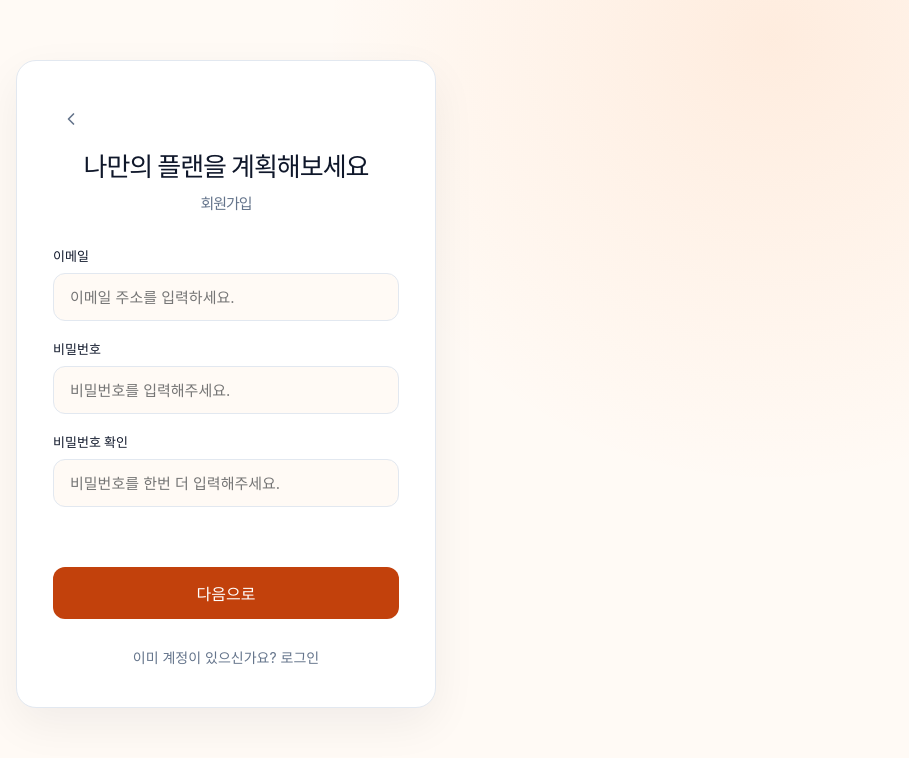
Scenario: JoinView › email 확인 성공 후 화면 이동이 실패하면 navigation 오류를 구분해 표시한다
The width and height of the screenshot is (909, 758).
Type "  MEMBER@Example.COM " into the field with id "join-email" at (226, 297), box x1=53 y1=273 x2=399 y2=321
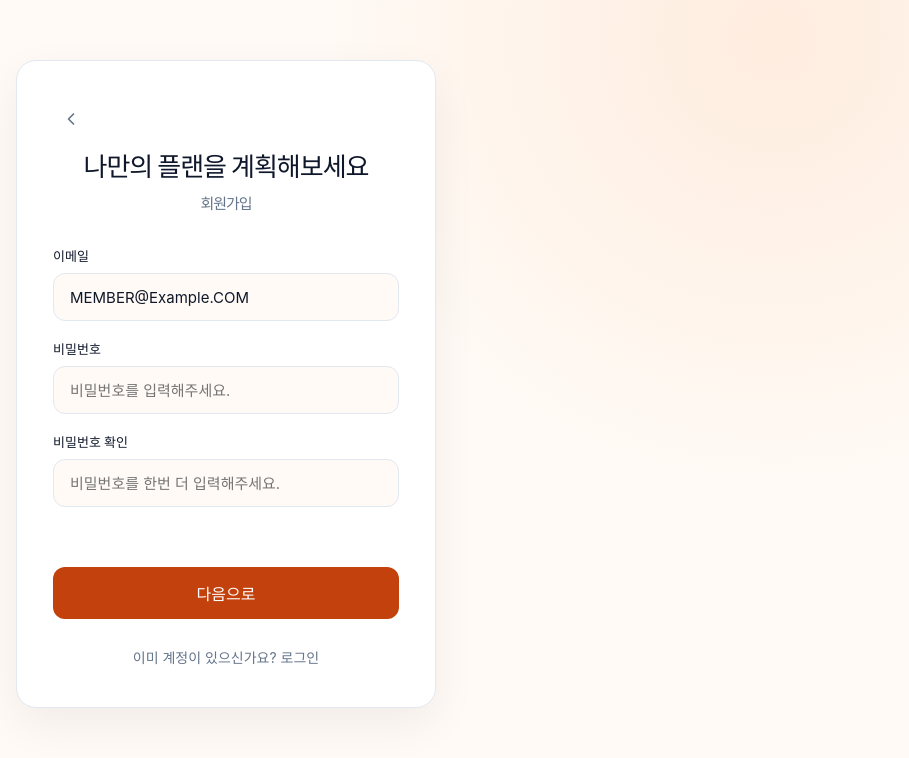
Type "password-value" into the password field with id "join-password" at (226, 390), box x1=53 y1=366 x2=399 y2=414
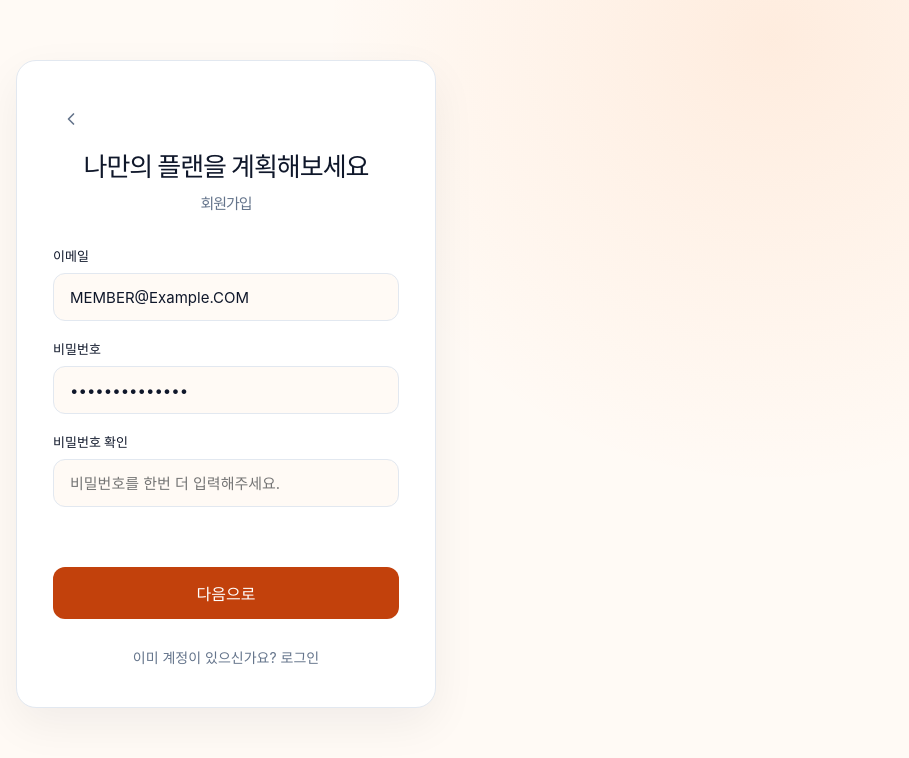
Type "password-value" into the password field with id "join-password-confirmation" at (226, 483), box x1=53 y1=459 x2=399 y2=507
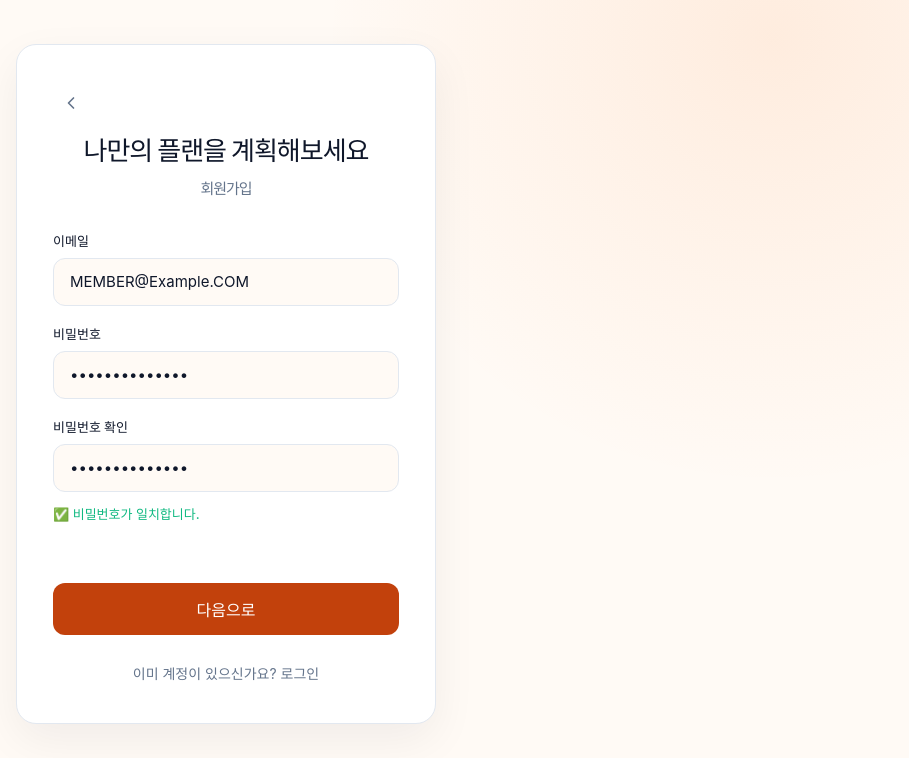
Submit the form, box x1=53 y1=231 x2=399 y2=635
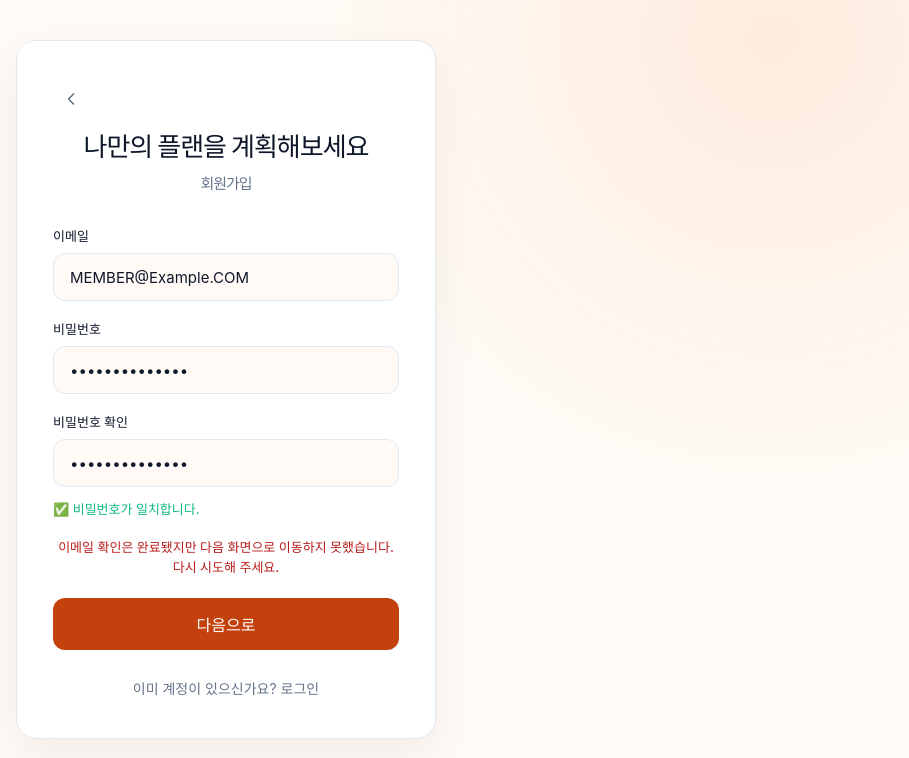
Now the message "이메일 확인은 완료됐지만 다음 화면으로 이동하지 못했습니다. 다시 시도해 주세요." is shown, box x1=58 y1=539 x2=394 y2=575
